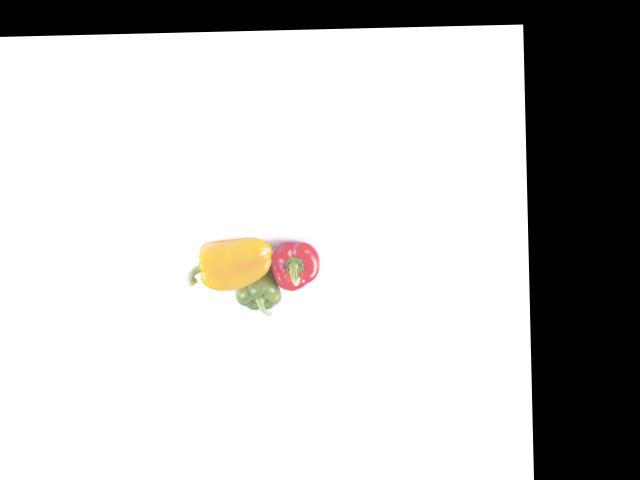bell_pepper: (230, 269, 285, 316)
